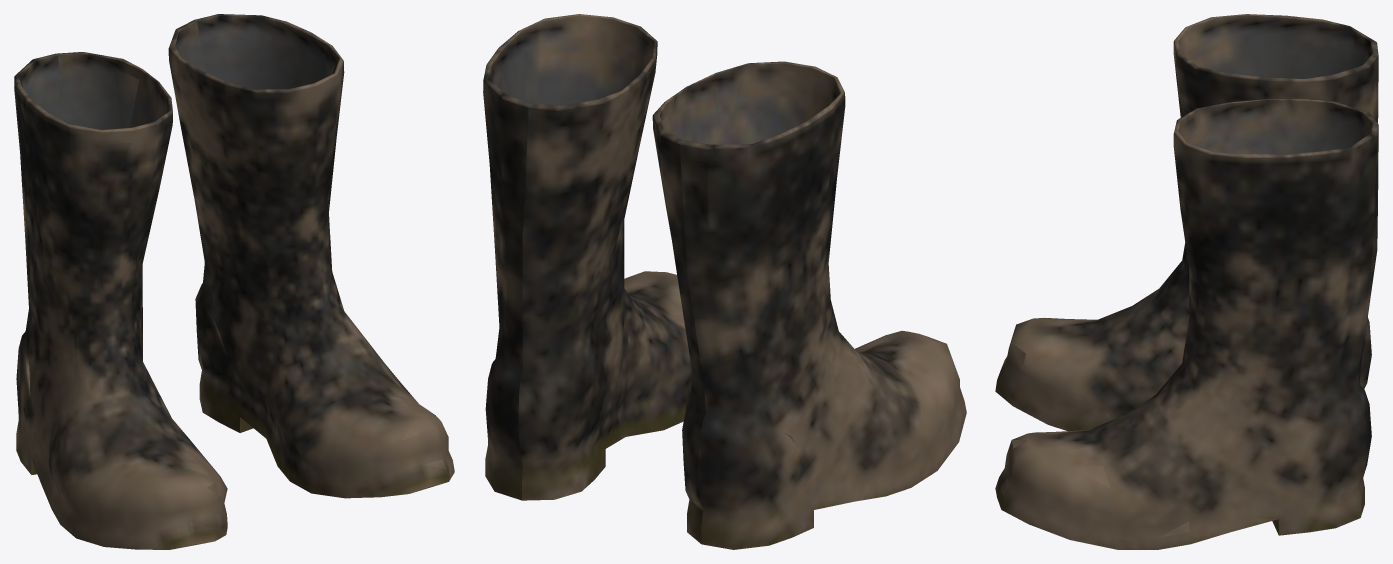
The model's file is rubberbootstier1.glb.
3 renders of one model, left to right at view 1: azimuth 30°, elevation 25°; view 2: azimuth 150°, elevation 25°; view 3: azimuth 270°, elevation 25°, orthographic. The views are drawn at different scales.
Visible parts, largest first — view 1: Recovered_Node_002; view 2: Recovered_Node_002; view 3: Recovered_Node_002.
Boxes of the visible parts, x1,y1,x2,y2 form: Recovered_Node_002: (14,14,454,549); Recovered_Node_002: (483,14,966,549); Recovered_Node_002: (995,14,1378,549).
Size of the model in its own units: 32.64 by 33.05 by 30.15.
Materials: 2 (2 with a texture image).
